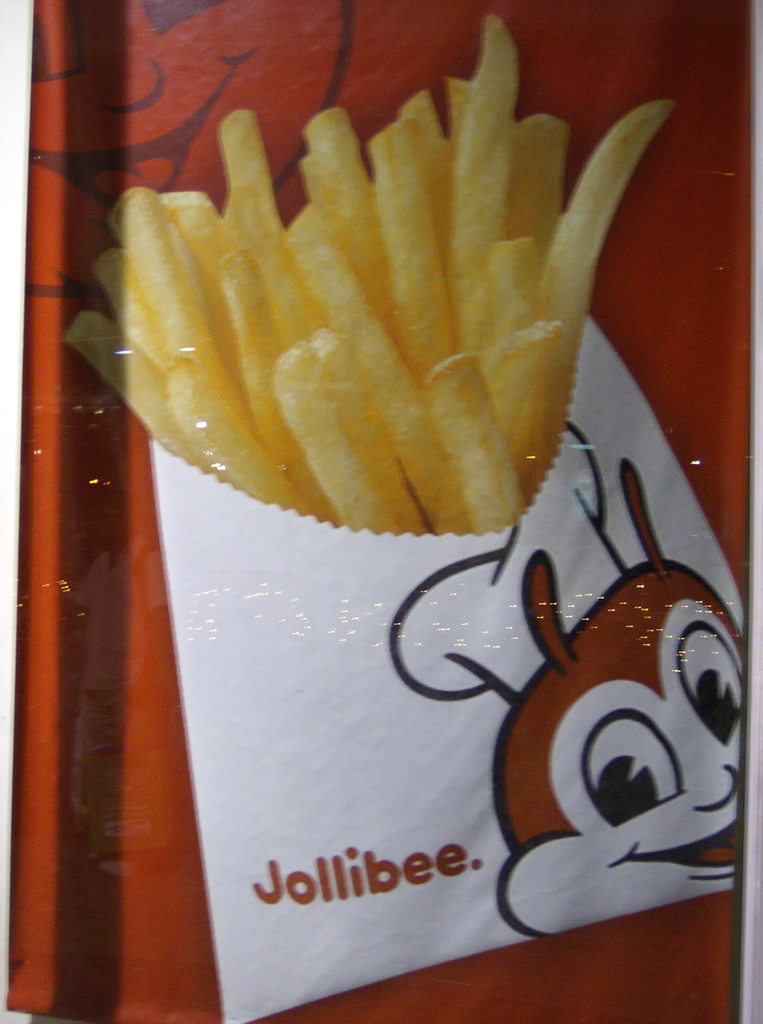French fries: (76, 81, 684, 541)
